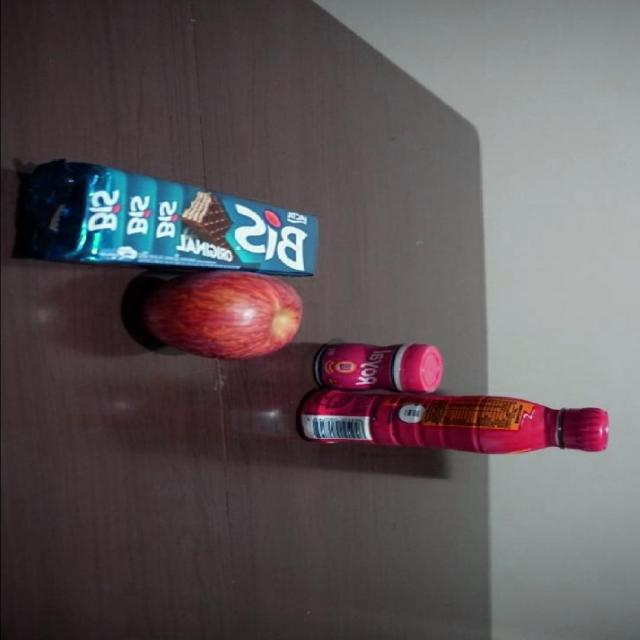Apple: (142, 271, 304, 361)
ChocolateMilk: (302, 391, 612, 453)
Yeast: (312, 341, 447, 389)
